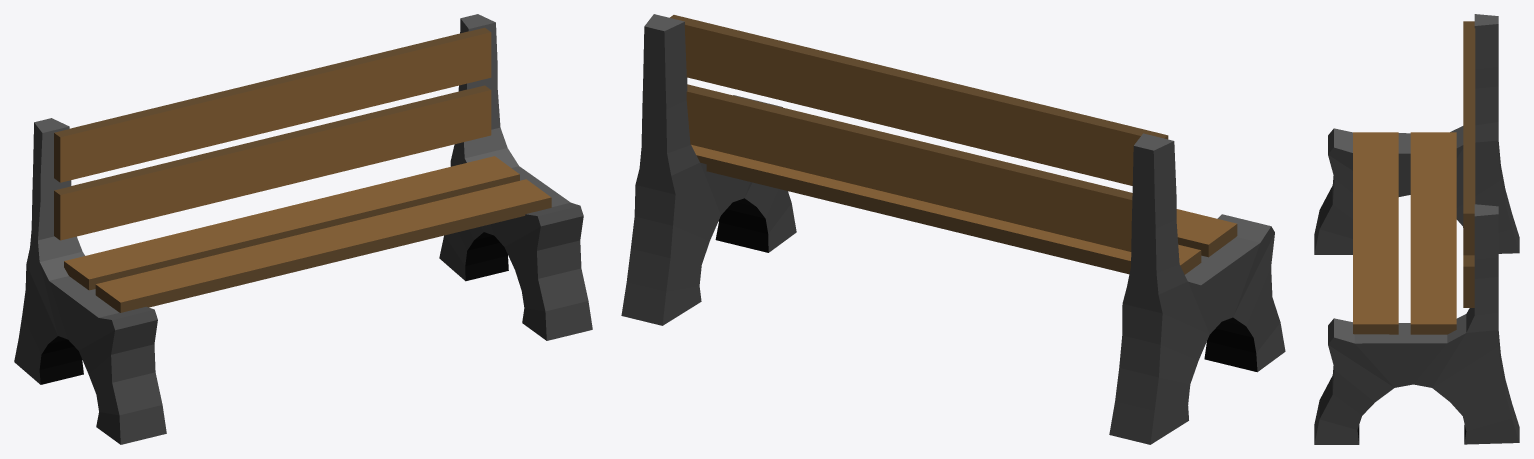
Rendered from M_ParkBench.fbx.
3 views of the same model, side by side, from view 1: azimuth 30°, elevation 25°; view 2: azimuth 150°, elevation 25°; view 3: azimuth 270°, elevation 25° (orthographic). The views are drawn at different scales.
Parts seen in each view (by area): view 1: Cube.003, Bench; view 2: Cube.003, Bench; view 3: Bench, Cube.003.
Part boxes in pixels (left/top/right/bottom): Cube.003: left=54, top=27, right=551, bottom=312; Bench: left=14, top=14, right=592, bottom=444; Cube.003: left=670, top=15, right=1237, bottom=274; Bench: left=621, top=14, right=1285, bottom=444; Bench: left=1314, top=14, right=1519, bottom=444; Cube.003: left=1353, top=21, right=1475, bottom=334.
Size of the model in its own units: 990 by 493 by 407.
